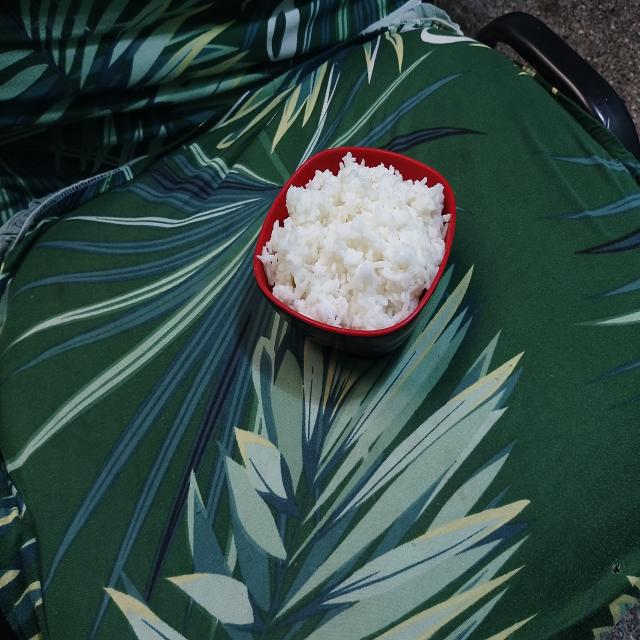Chicken -Chicken Inasal-: (263, 149, 446, 329)
